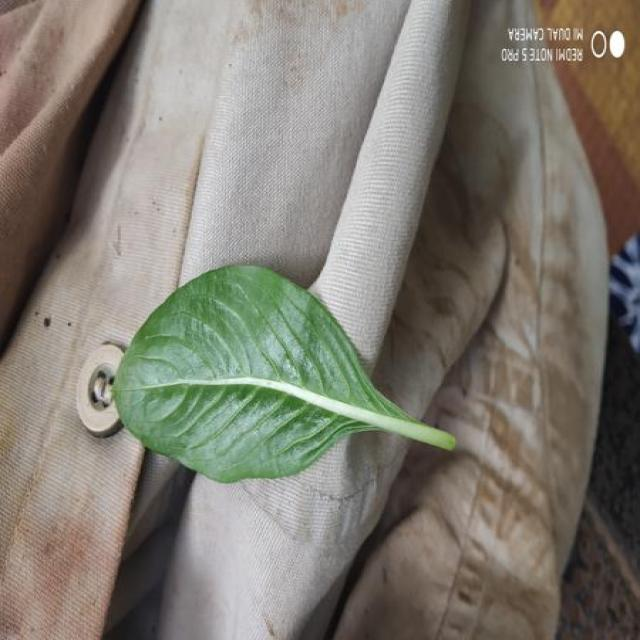catharanthus: (115, 265, 455, 482)
